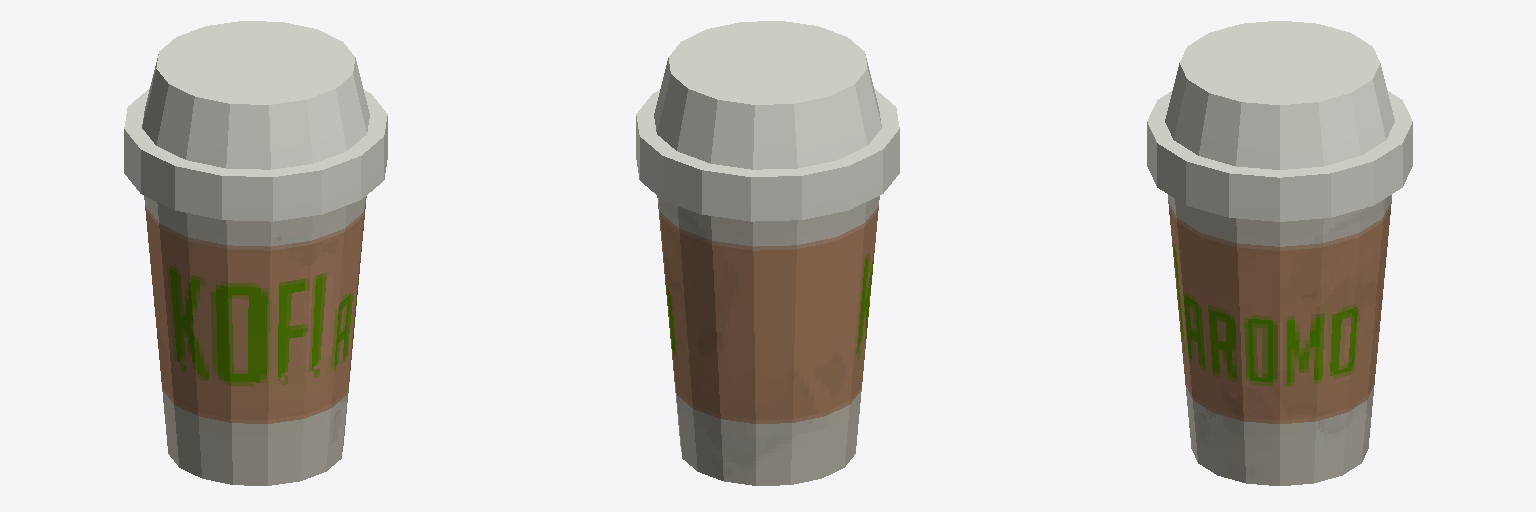
The picture shows the model from 3 angles: view 1: azimuth 30°, elevation 25°; view 2: azimuth 150°, elevation 25°; view 3: azimuth 270°, elevation 25°; orthographic projection.
Parts seen in each view (by area): view 1: Coffee_CoffeeMesh; view 2: Coffee_CoffeeMesh; view 3: Coffee_CoffeeMesh.
Part boxes in pixels (x1,y1,x2,y2): Coffee_CoffeeMesh: (124,21,387,485); Coffee_CoffeeMesh: (636,21,899,485); Coffee_CoffeeMesh: (1147,21,1412,485).
Size of the model in its own units: 0.1518 by 0.2433 by 0.1518.
Materials: 1 (1 with a texture image).